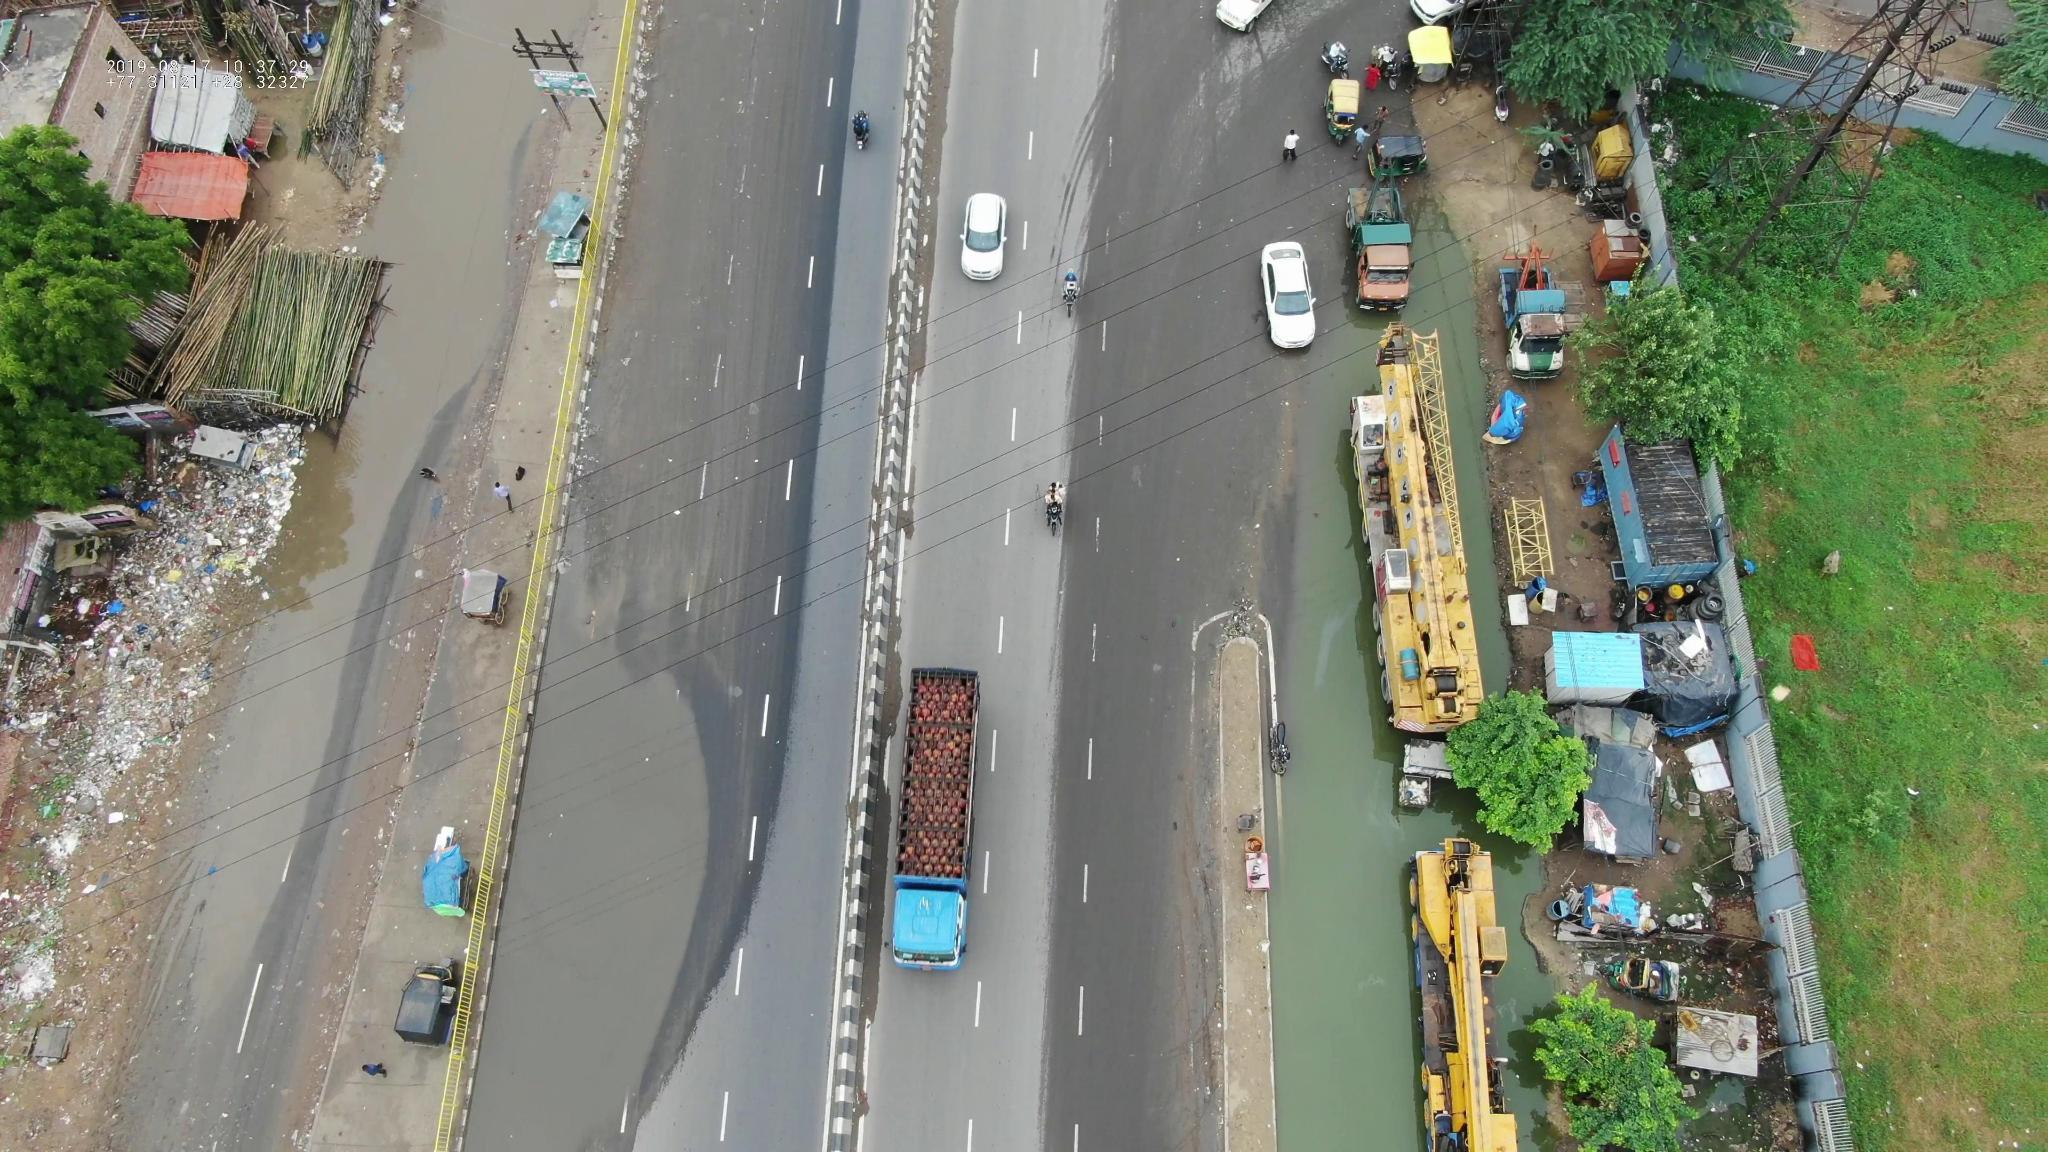Muddy_road: (603, 190, 719, 391), (580, 409, 679, 599)
Road_side_garbage: (49, 437, 288, 703), (17, 713, 148, 954)
Waterlogging: (1265, 212, 1515, 705), (468, 654, 724, 1129), (1267, 723, 1549, 1135), (340, 91, 554, 419), (152, 693, 339, 1017), (271, 437, 423, 677)
